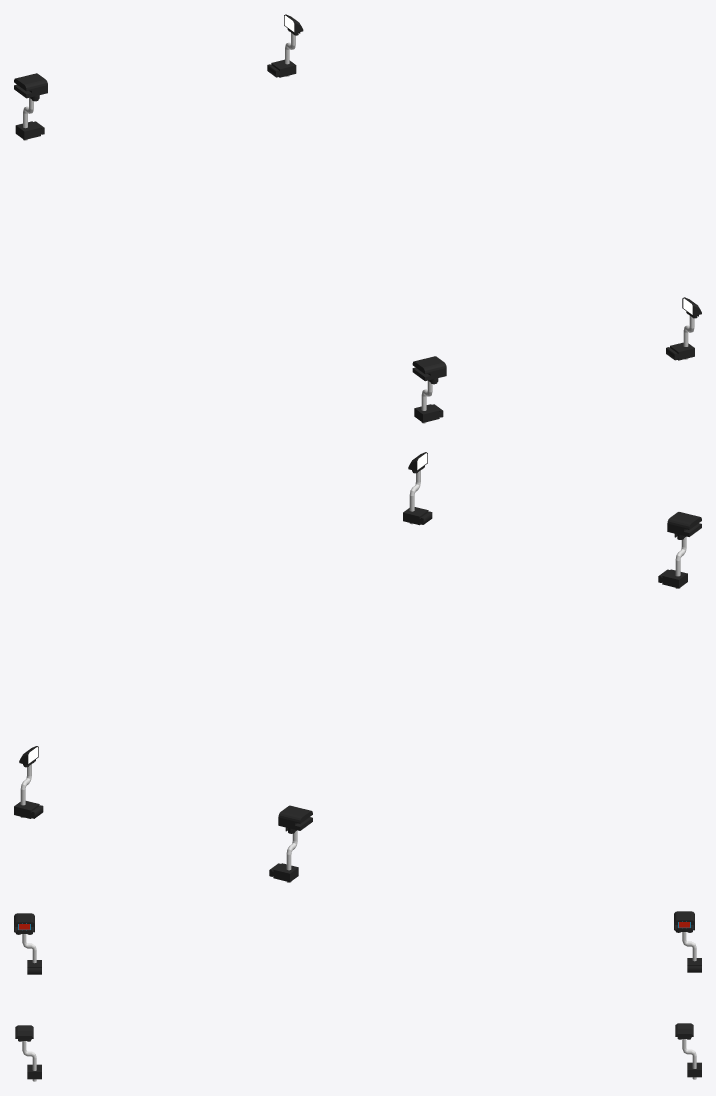
File: sensor_pack.glb
3 renders of one model, top to bottom at view 1: azimuth 30°, elevation 25°; view 2: azimuth 150°, elevation 25°; view 3: azimuth 270°, elevation 25°, orthographic. The views are drawn at different scales.
Parts seen in each view (by area): view 1: Cube.002 (×2), Cube.004 (×2); view 2: Cube.002 (×2), Cube.004 (×2); view 3: Cube.002 (×2), Cube.004 (×2).
Boxes of the visible parts, x1,y1,x2,y2 form: Cube.002 (×2): [14, 73, 446, 423]; Cube.004 (×2): [267, 14, 701, 360]; Cube.002 (×2): [269, 512, 701, 882]; Cube.004 (×2): [14, 452, 432, 818]; Cube.002 (×2): [14, 911, 701, 974]; Cube.004 (×2): [15, 1023, 701, 1081].
Bounding box in the file's own units: 0.631 × 0.1402 × 1.56.
